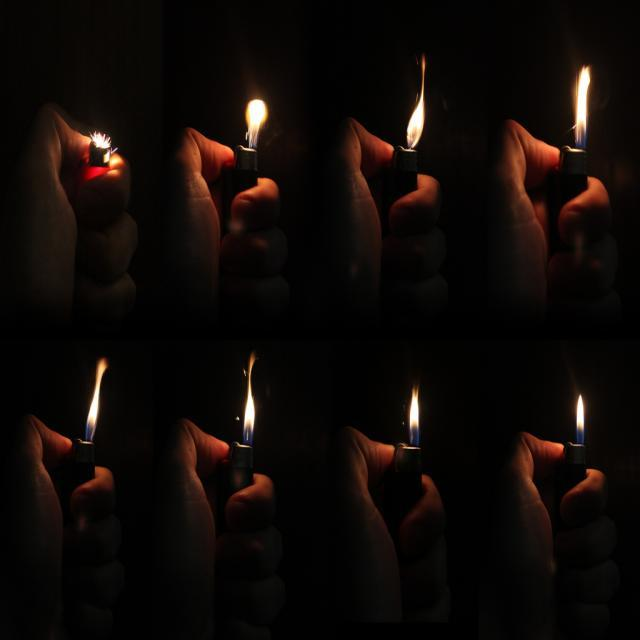Fire: (240, 372, 270, 450), (573, 61, 599, 144), (80, 378, 103, 442), (242, 92, 268, 144), (408, 72, 427, 142), (86, 122, 110, 166), (407, 384, 422, 454), (574, 399, 594, 448)
